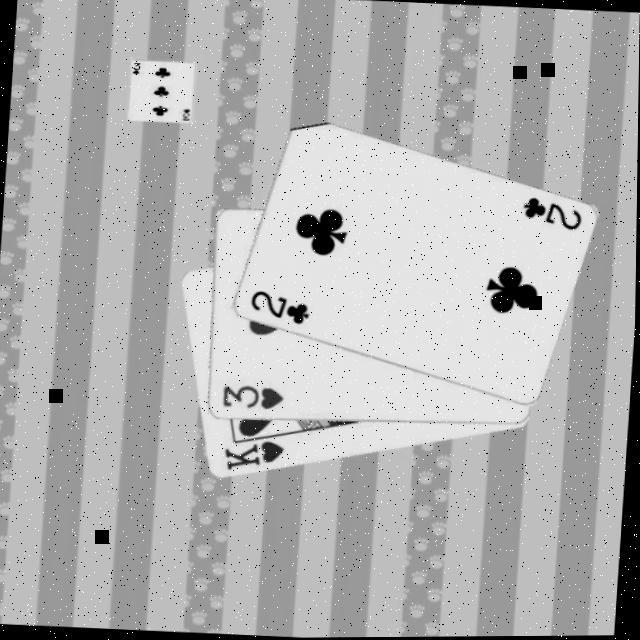2C: (244, 286, 312, 326), (517, 193, 584, 233)
3H: (218, 379, 286, 412)
KH: (219, 434, 287, 474)
